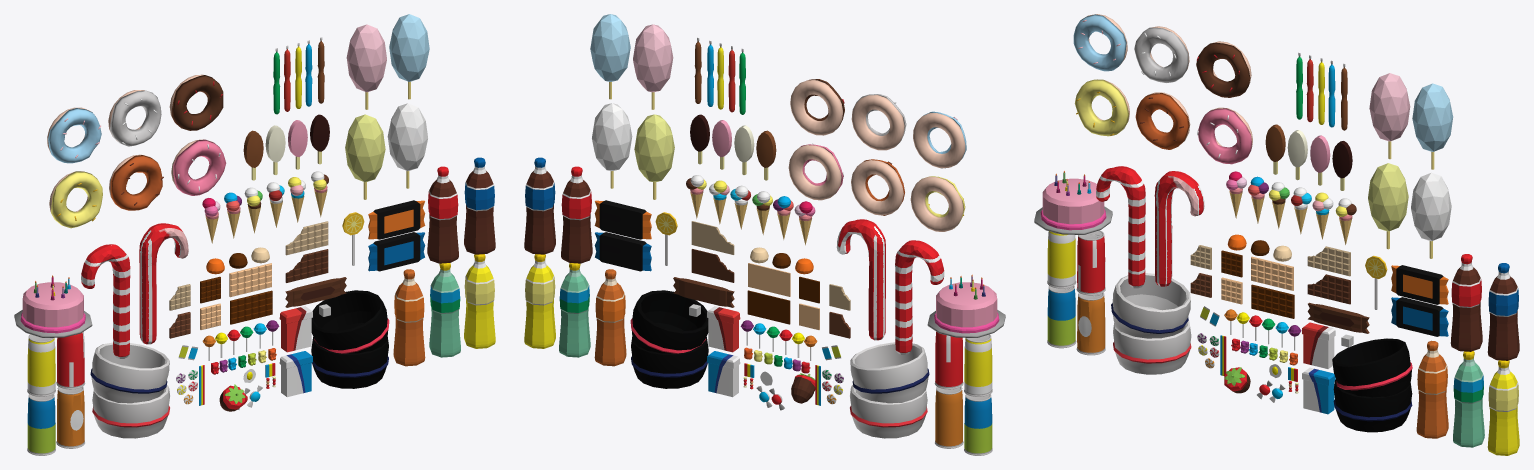
Rendered from MainCandies 1.fbx.
3 views of the same model, side by side, from view 1: azimuth 30°, elevation 25°; view 2: azimuth 150°, elevation 25°; view 3: azimuth 330°, elevation 25° (orthographic).
Visible parts, largest first — view 1: Plate_black_red, Plate._white_blue, CandyCane, Candle.008, Plate_white_red, Plate_black_blue, CandyCane.001, Bootle, Bootle.002, Bootle.001, Bootle.003, Bootle.004 (+33 smaller); view 2: Plate_black_red, Plate._white_blue, Candle.008, CandyCane.001, Plate_white_red, CandyCane, Plate_black_blue, Bootle, Bootle.002, Bootle.001, Bootle.003, Bootle.004 (+37 smaller); view 3: Plate._white_blue, Plate_black_red, Plate_white_red, CandyCane.001, CandyCane, Plate_black_blue, Candle.008, Bootle, Bootle.001, Bootle.002, Bootle.003, Bootle.004 (+38 smaller).
Boxes of the visible parts, <box> form: Plate_black_red: <box>311,290,389,353</box>; Plate._white_blue: <box>90,342,169,403</box>; CandyCane: <box>139,223,188,344</box>; Candle.008: <box>20,282,85,333</box>; Plate_white_red: <box>92,385,169,438</box>; Plate_black_blue: <box>311,337,388,388</box>; CandyCane.001: <box>81,244,130,358</box>; Bootle: <box>393,269,425,366</box>; Bootle.002: <box>464,157,495,254</box>; Bootle.001: <box>427,166,458,263</box>; Bootle.003: <box>429,263,460,357</box>; Bootle.004: <box>464,254,495,348</box>; Plate_black_red: <box>630,290,708,353</box>; Plate._white_blue: <box>850,342,929,403</box>; Candle.008: <box>934,282,999,333</box>; CandyCane.001: <box>895,240,944,354</box>; Plate_white_red: <box>850,385,927,438</box>; CandyCane: <box>836,219,885,340</box>; Plate_black_blue: <box>631,337,708,388</box>; Bootle: <box>594,269,626,366</box>; Bootle.002: <box>524,157,555,254</box>; Bootle.001: <box>561,166,592,263</box>; Bootle.003: <box>559,263,590,357</box>; Bootle.004: <box>524,254,555,348</box>; Plate._white_blue: <box>1111,273,1190,338</box>; Plate_black_red: <box>1332,338,1412,397</box>; Plate_white_red: <box>1113,320,1191,374</box>; CandyCane.001: <box>1096,166,1145,288</box>; CandyCane: <box>1154,171,1204,286</box>; Plate_black_blue: <box>1333,379,1412,432</box>; Candle.008: <box>1040,178,1106,230</box>; Bootle: <box>1416,340,1448,438</box>; Bootle.001: <box>1450,254,1482,351</box>; Bootle.002: <box>1487,263,1519,360</box>; Bootle.003: <box>1453,351,1484,447</box>; Bootle.004: <box>1487,360,1519,455</box>.
Bounding box in the file's own units: 276 × 1913 × 1375.
